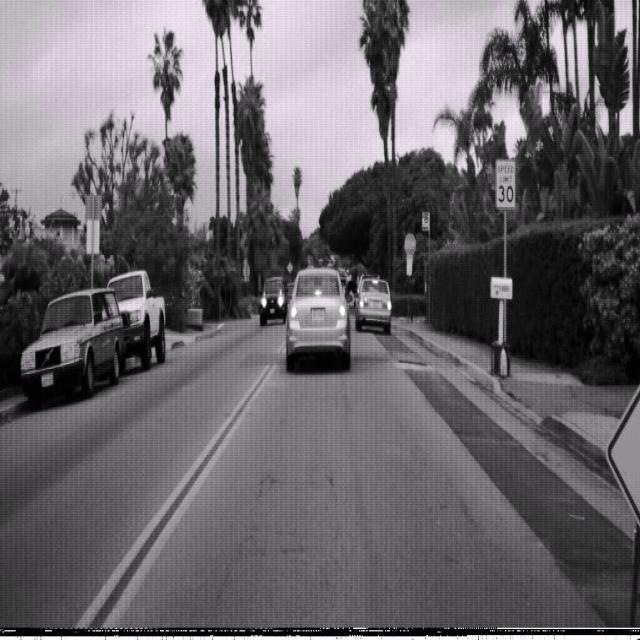speedLimit30: (494, 158, 516, 210)
